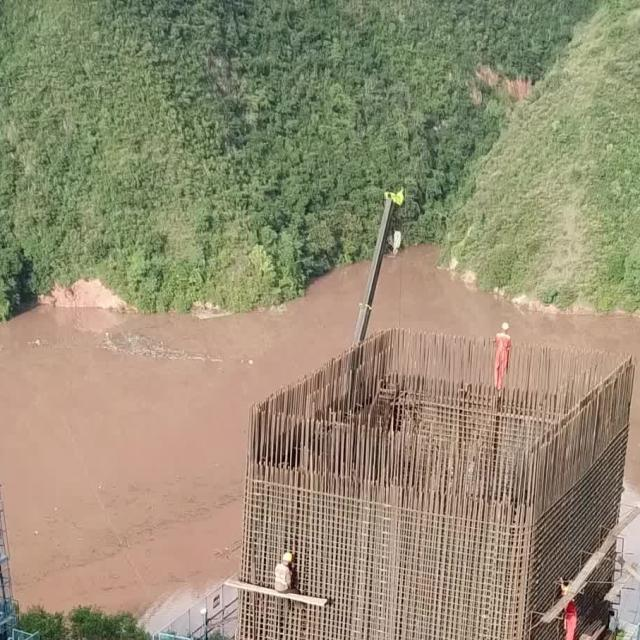crane: (351, 184, 406, 341)
